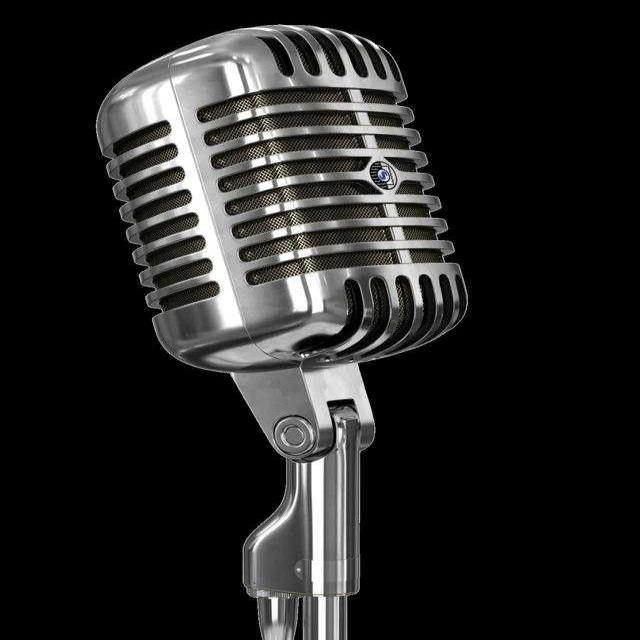microphone: (90, 23, 460, 638)
